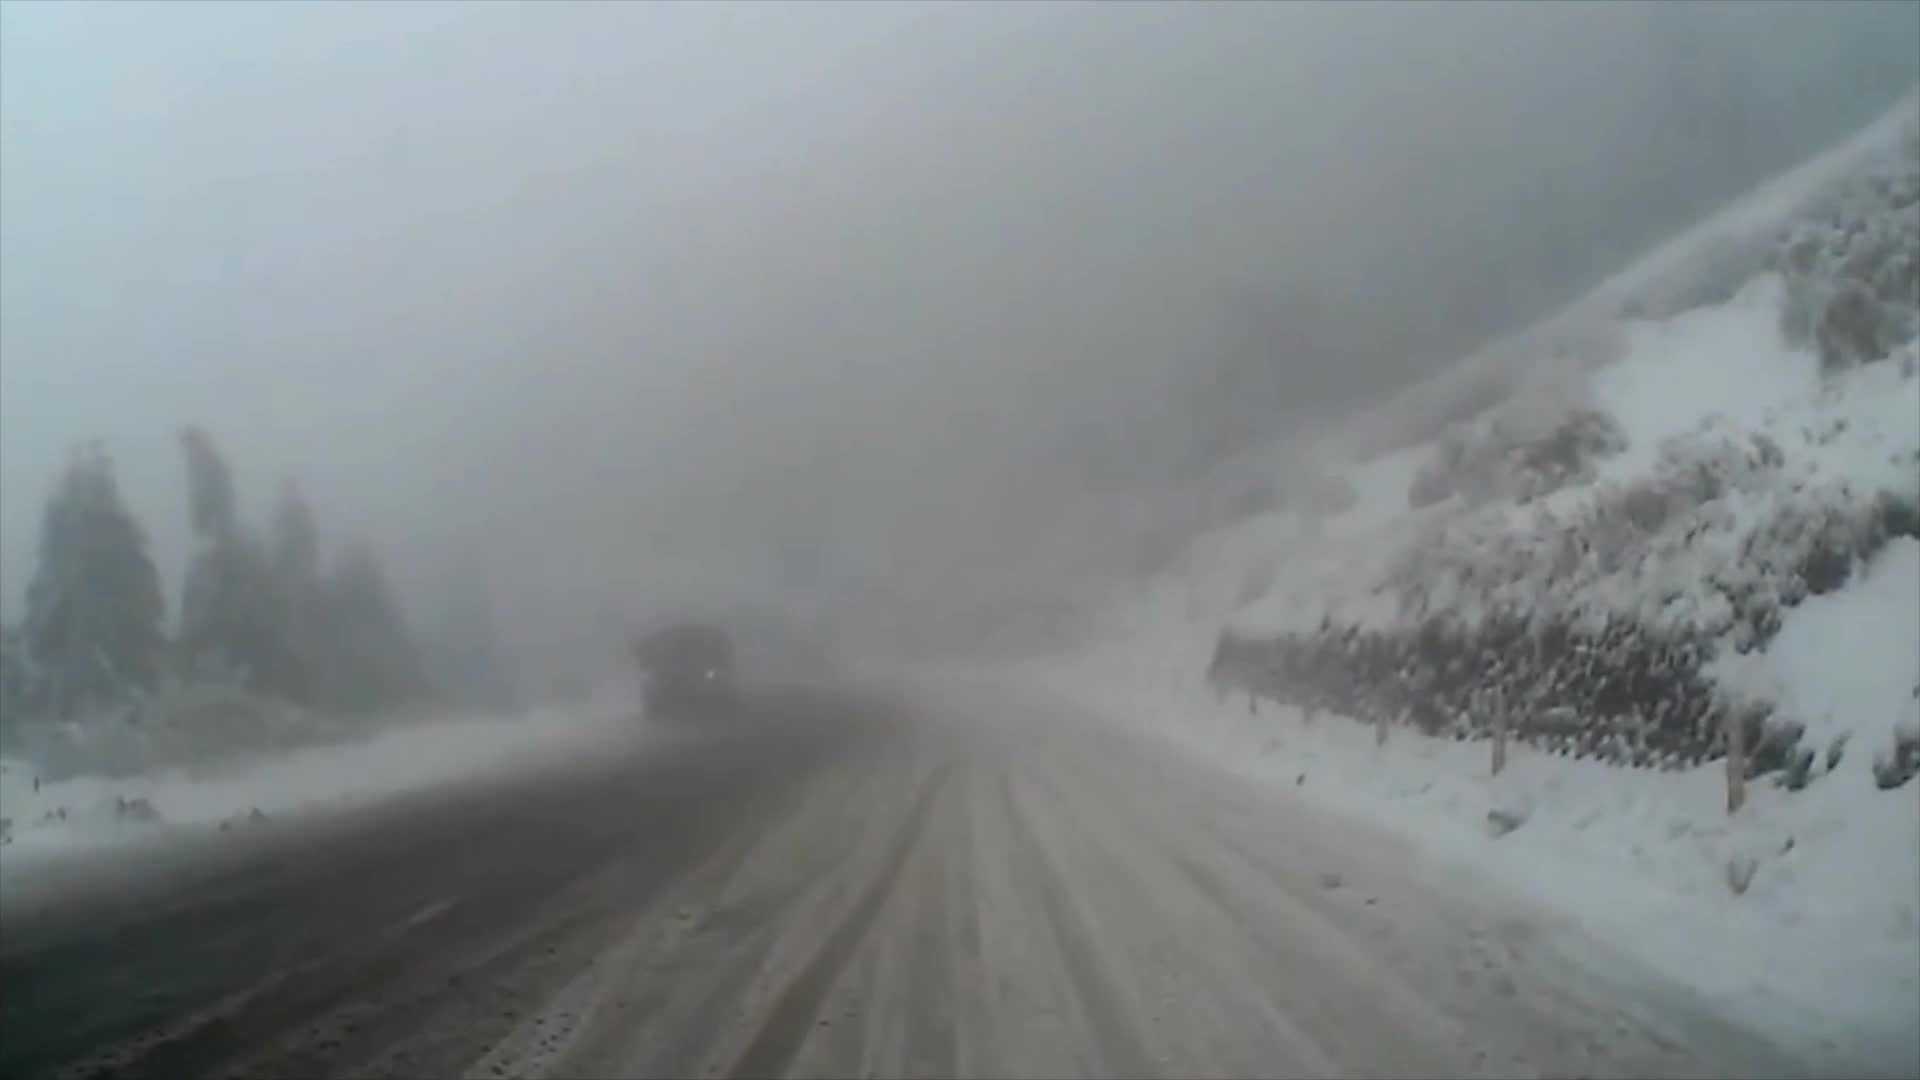vehicle: (632, 626, 740, 723)
